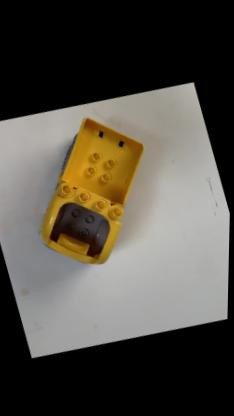yellow dump truck: (5, 92, 178, 286)
